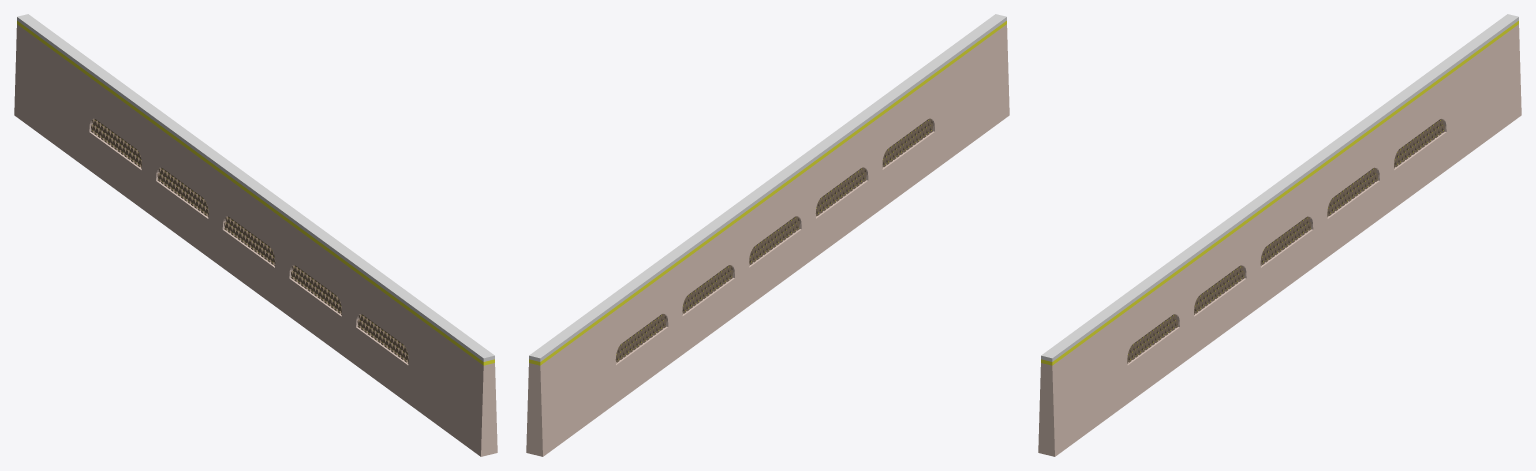
File: DCInnerWall_LongWindowed.fbx
The picture shows the model from 3 angles, left to right: view 1: azimuth 30°, elevation 25°; view 2: azimuth 150°, elevation 25°; view 3: azimuth 330°, elevation 25°; orthographic projection.
Parts seen in each view (by area): view 1: DCInnerWall_LongWindowed; view 2: DCInnerWall_LongWindowed; view 3: DCInnerWall_LongWindowed.
Part boxes in pixels (bbox=[...]): DCInnerWall_LongWindowed: bbox=[14, 14, 497, 456]; DCInnerWall_LongWindowed: bbox=[526, 14, 1009, 456]; DCInnerWall_LongWindowed: bbox=[1038, 14, 1521, 456].
Size of the model in its own units: 14.51 by 700 by 81.04.
